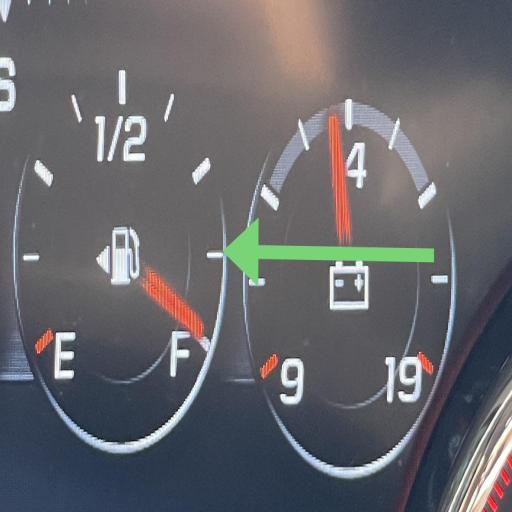empty: (53, 324, 78, 392)
fuel_icon: (110, 218, 142, 296)
full: (168, 324, 193, 380)
guage_area: (9, 36, 231, 466)
needle_tip: (182, 302, 207, 342)
